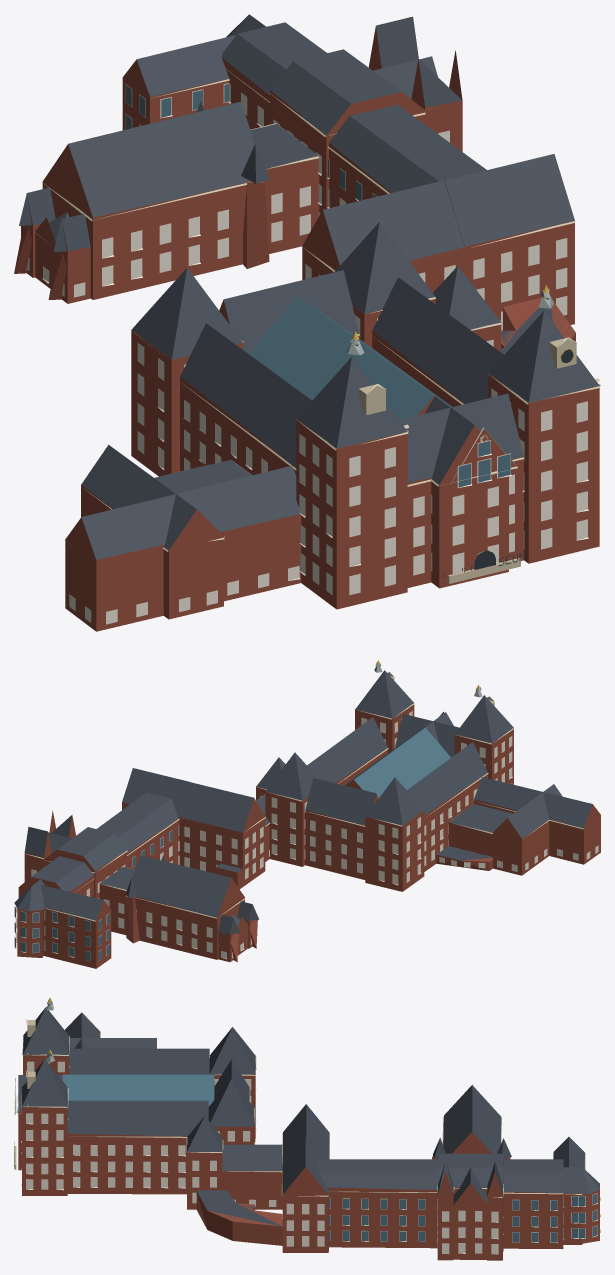
The model's file is wereldmuseum-amsterdam.lod1.glb.
3 views of the same model, one above another, from view 1: azimuth 30°, elevation 25°; view 2: azimuth 150°, elevation 25°; view 3: azimuth 270°, elevation 25° (orthographic). The views are drawn at different scales.
Visible parts, largest first — view 1: wereldmuseum-amsterdam; view 2: wereldmuseum-amsterdam; view 3: wereldmuseum-amsterdam.
Part boxes in pixels (box(x1,y1,x2,y2)): wereldmuseum-amsterdam: box(14, 14, 600, 631); wereldmuseum-amsterdam: box(14, 660, 600, 968); wereldmuseum-amsterdam: box(14, 997, 600, 1260).
Bounding box in the file's own units: 129 × 43.69 × 167.
